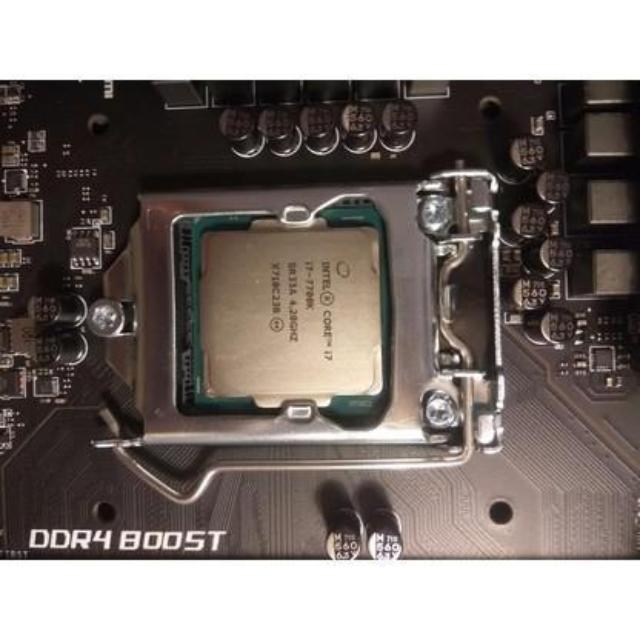CPU: (192, 210, 392, 408)
